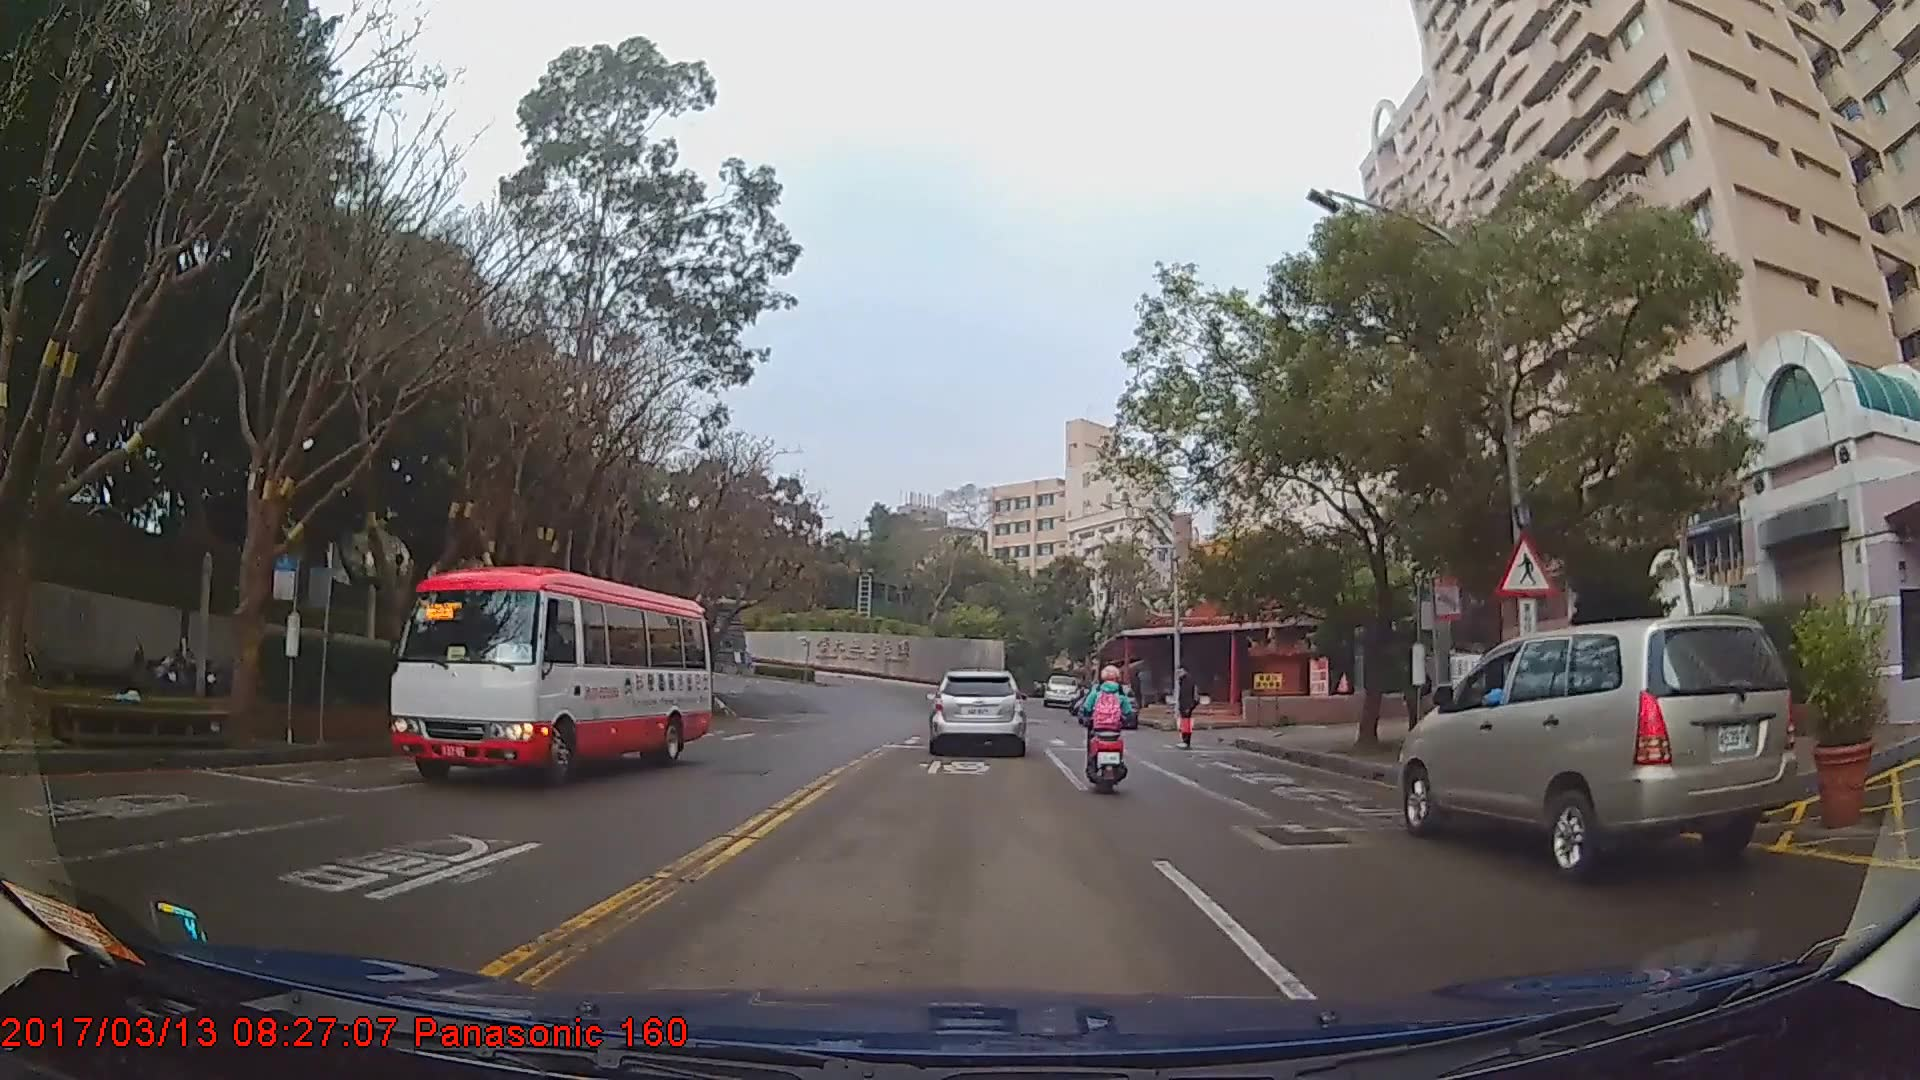pedestrian: (1173, 668, 1201, 753)
rider: (1077, 666, 1134, 797)
vehicle: (1396, 614, 1797, 882), (390, 565, 711, 789), (925, 670, 1028, 757), (1044, 673, 1082, 706)
